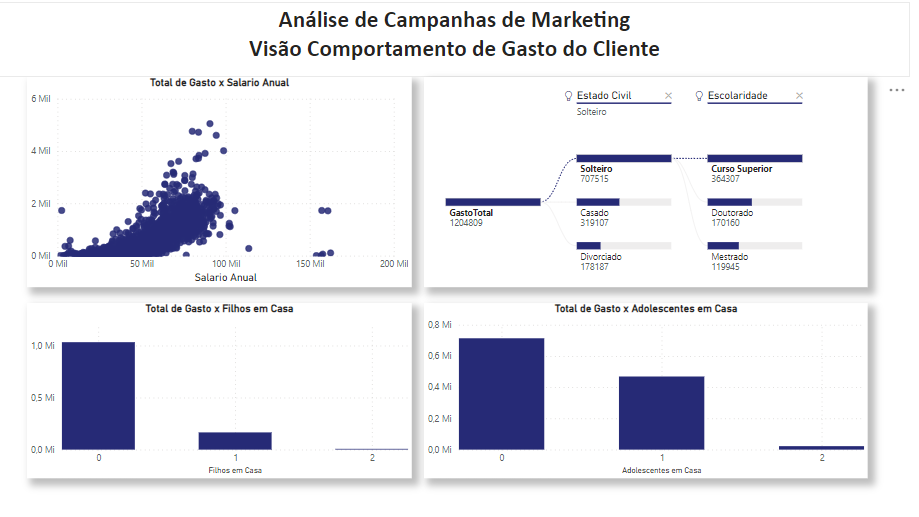

The dashboard page shown, as its layout file describes it:
{"tool":"powerbi","page":{"name":"Visão Comportamento","canvas":[1280,720],"ordinal":1},"visuals":[{"type":"scatterChart","title":"Total de Gasto x Salario Anual","fields":{"X":["DadosMarketing.Salario Anual"],"Y":["DadosMarketing.GastoTotal"]},"box":[53.6,115.5,529.3,288.7],"z":0},{"type":"textbox","box":[15.1,12.4,1252.5,103.1],"z":1},{"type":"clusteredColumnChart","title":"Total de Gasto x Filhos em Casa","fields":{"Y":["DadosMarketing.GastoTotal"],"Category":["DadosMarketing.Filhos em Casa"]},"box":[53.6,426.2,529.3,240.6],"z":2},{"type":"clusteredColumnChart","title":"Total de Gasto x Adolescentes em Casa","fields":{"Y":["DadosMarketing.GastoTotal"],"Category":["DadosMarketing.Adolescentes em Casa"]},"box":[599.4,426.2,610.4,240.6],"z":3},{"type":"decompositionTreeVisual","fields":{"Analyze":["DadosMarketing.GastoTotal"],"ExplainBy":["DadosMarketing.Estado Civil","DadosMarketing.Escolaridade"]},"box":[599.4,115.5,610.4,288.7],"z":4}]}

Visuals, with their boxes in screenshot pixels (x1, y1, x2, y2), scaled from the page's 1280x720 canvas onto the 919x517 screenshot:
"Total de Gasto x Salario Anual" scatterChart: select_region(38, 83, 419, 290)
textbox: select_region(11, 9, 910, 83)
"Total de Gasto x Filhos em Casa" clusteredColumnChart: select_region(38, 306, 419, 479)
"Total de Gasto x Adolescentes em Casa" clusteredColumnChart: select_region(430, 306, 869, 479)
decompositionTreeVisual - DadosMarketing.GastoTotal x DadosMarketing.Estado Civil: select_region(430, 83, 869, 290)
